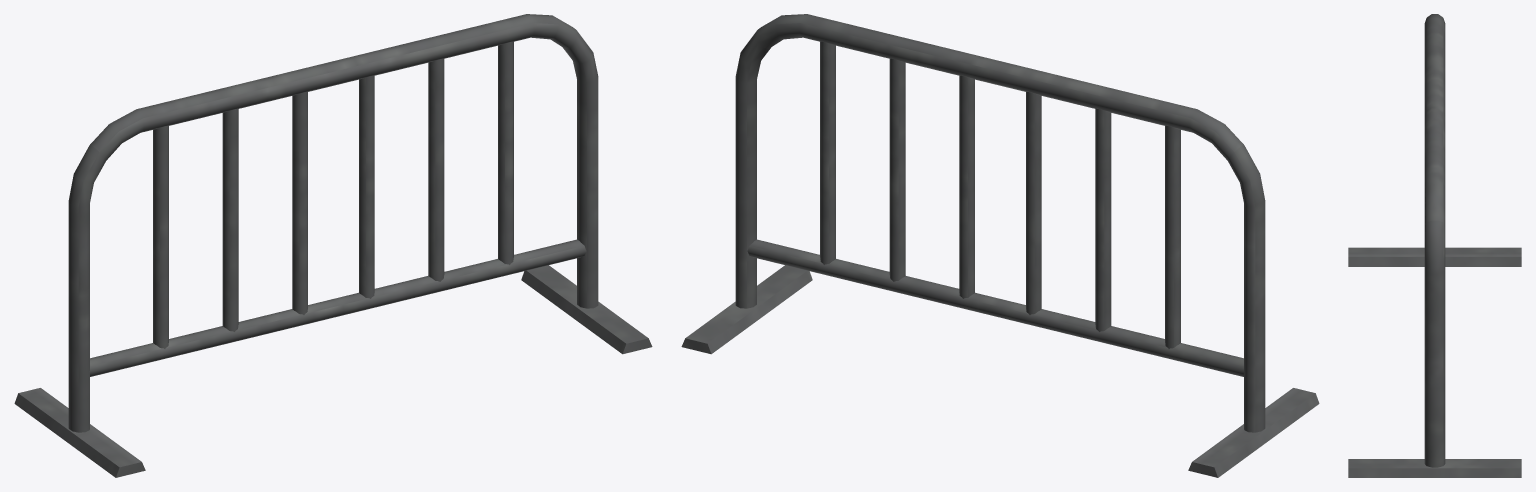
The model's file is Fence.fbx.
3 views of the same model, side by side, from view 1: azimuth 30°, elevation 25°; view 2: azimuth 150°, elevation 25°; view 3: azimuth 270°, elevation 25° (orthographic). The views are drawn at different scales.
Parts seen in each view (by area): view 1: Fence; view 2: Fence; view 3: Fence.
Boxes of the visible parts, x1,y1,x2,y2 form: Fence: (14, 14, 652, 477); Fence: (681, 14, 1319, 477); Fence: (1348, 14, 1521, 477).
Bounding box in the file's own units: 282 × 157 × 92.37.
